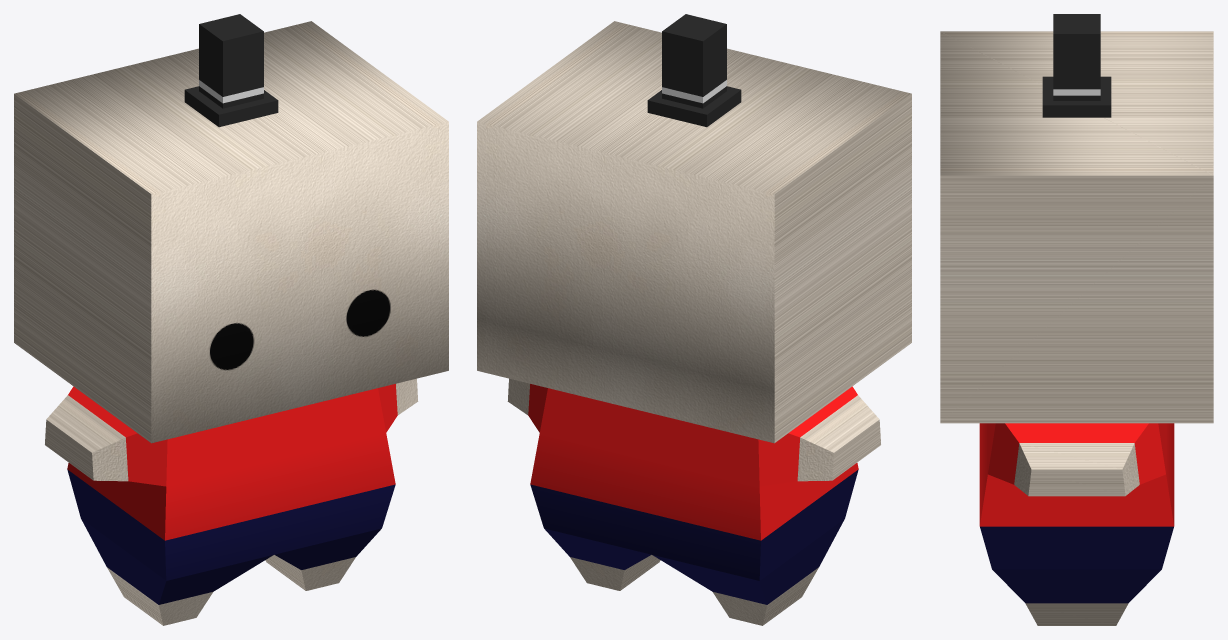
The model's file is paperchar.obj.
The picture shows the model from 3 angles, left to right: view 1: azimuth 30°, elevation 25°; view 2: azimuth 150°, elevation 25°; view 3: azimuth 270°, elevation 25°; orthographic projection.
Parts seen in each view (by area): view 1: Character, Box001; view 2: Character, Box001; view 3: Character, Box001.
Part boxes in pixels (x1,y1,x2,y2): Character: [14, 21, 448, 625]; Box001: [184, 14, 278, 127]; Character: [477, 21, 911, 625]; Box001: [647, 14, 741, 127]; Character: [940, 31, 1213, 625]; Box001: [1042, 14, 1111, 117].
Bounding box in the file's own units: 27.28 × 45.16 × 20.
